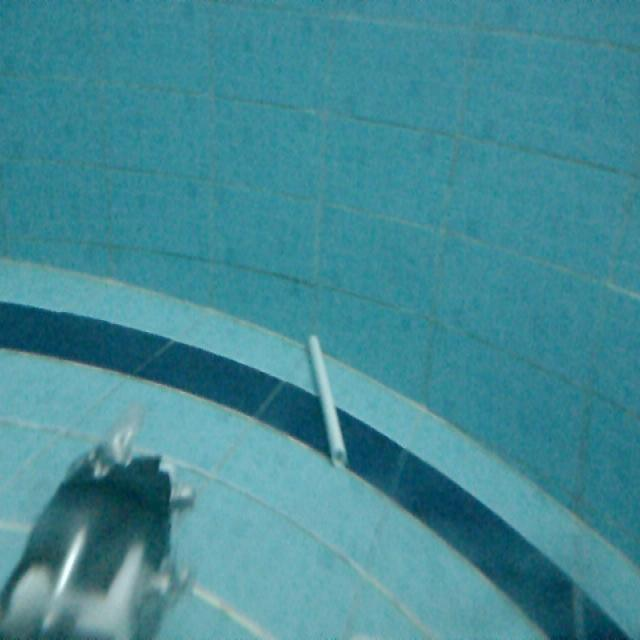Cube: (305, 331, 350, 470)
